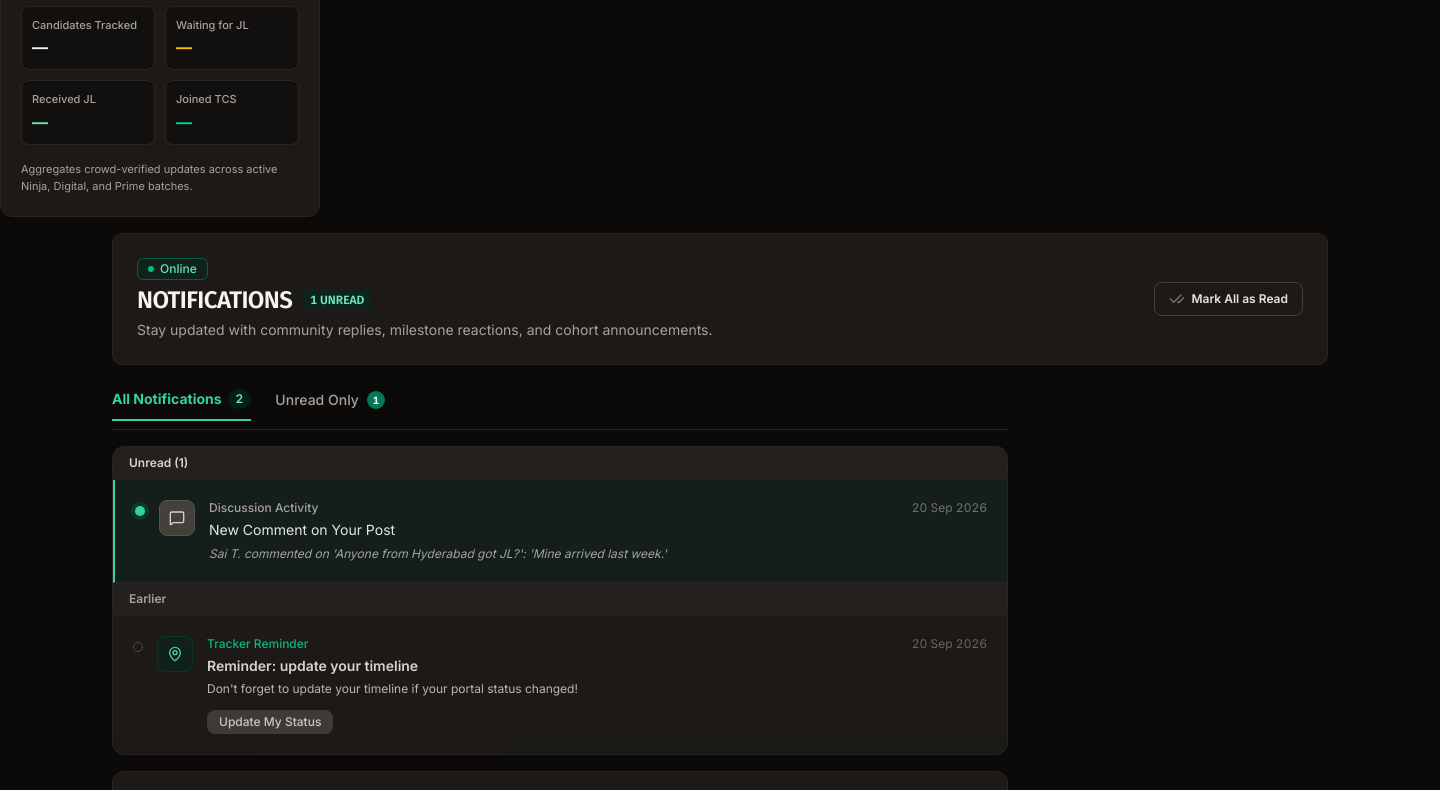
Test: §7.10 NotificationsPage (notification_center composition) › requests only unread rows on the Unread Only tab
(page scrolled)
Expected: the button with test id "notification-row-n1" is shown, [113,480,1007,583]
Click the tab "Unread Only 1": x=330, y=405 [275,390,385,420]
(page scrolled)
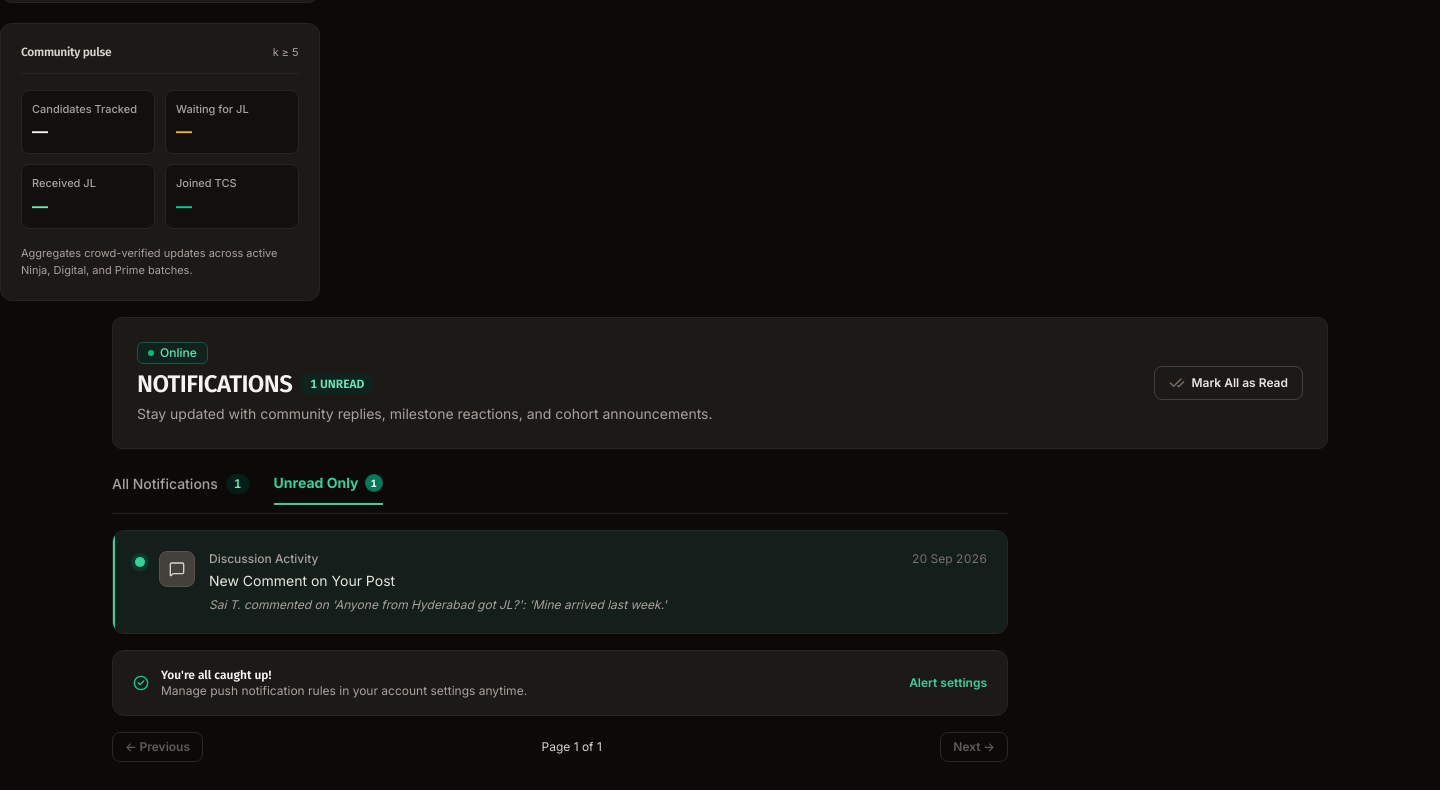
Now the button with test id "notification-row-n3" is gone
